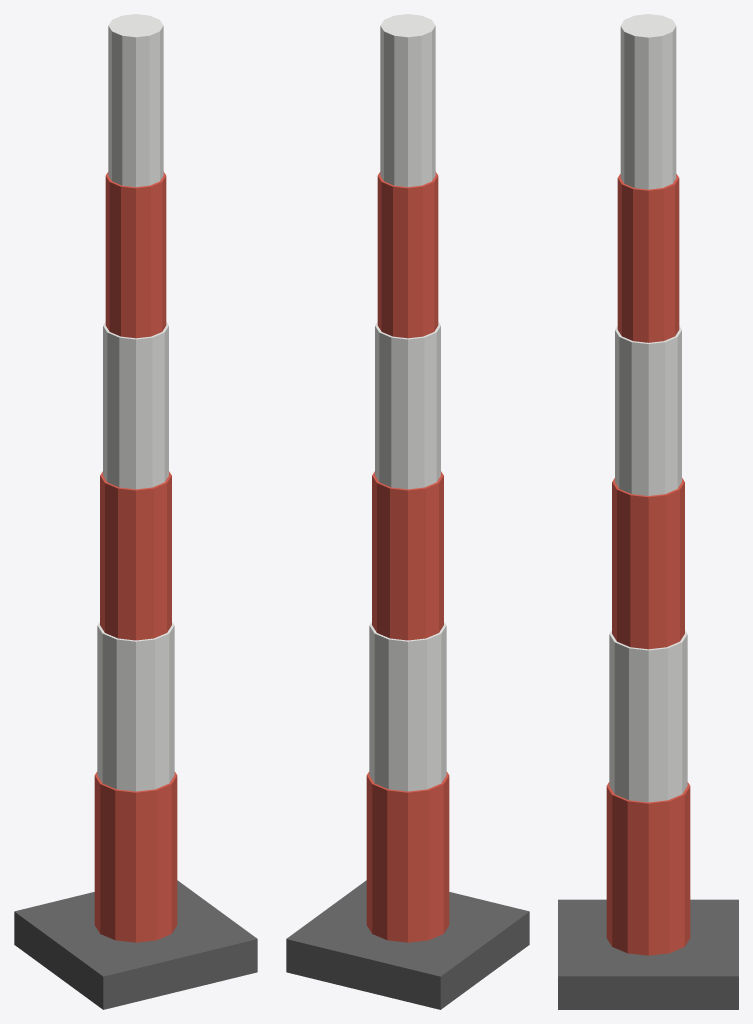
The model's file is dm_pylontall.glb.
3 views of the same model, side by side, from view 1: azimuth 30°, elevation 25°; view 2: azimuth 150°, elevation 25°; view 3: azimuth 270°, elevation 25° (orthographic).
Parts seen in each view (by area): view 1: dm_pylontall; view 2: dm_pylontall; view 3: dm_pylontall.
Boxes of the visible parts, box(x1,y1,x2,y2) form: dm_pylontall: box(14, 14, 257, 1009); dm_pylontall: box(286, 14, 529, 1009); dm_pylontall: box(558, 14, 738, 1009).
Bounding box in the file's own units: 0.194 × 1.12 × 0.194.
